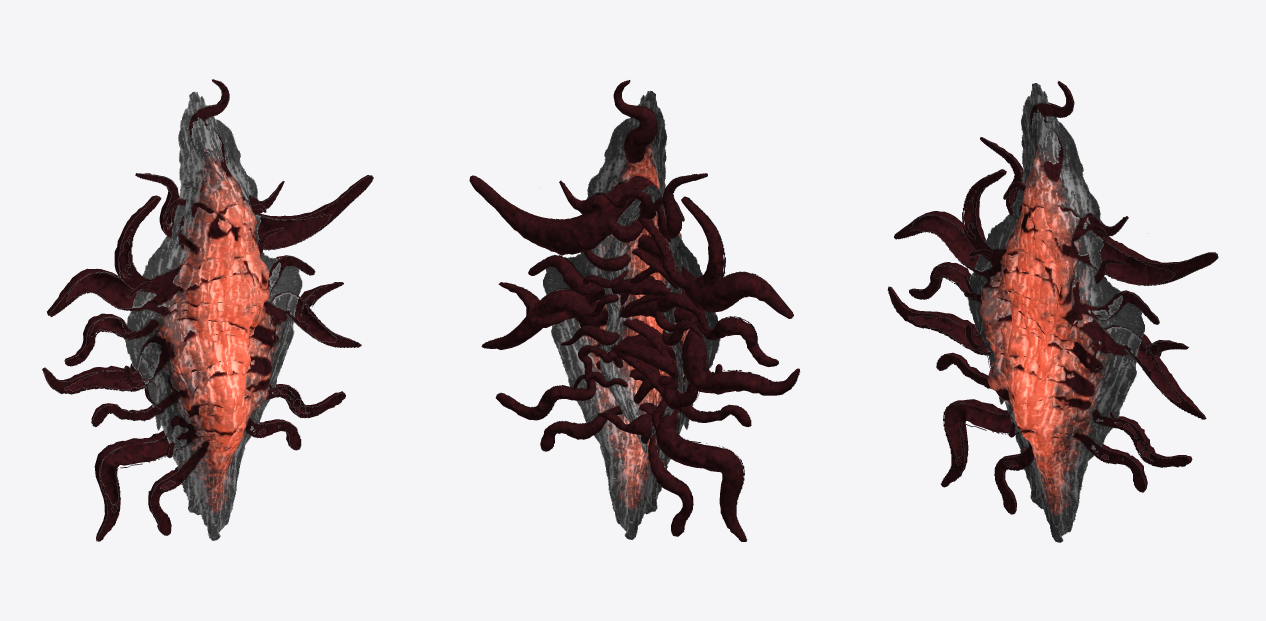
The model's file is rifts-mini.glb.
3 renders of one model, left to right at view 1: azimuth 30°, elevation 25°; view 2: azimuth 150°, elevation 25°; view 3: azimuth 330°, elevation 25°, orthographic.
Visible parts, largest first — view 1: Rift_A, Rift_B; view 2: Rift_A, Rift_B; view 3: Rift_A, Rift_B.
Boxes of the visible parts, x1,y1,x2,y2 form: Rift_A: (42, 79, 373, 541); Rift_B: (122, 197, 284, 458); Rift_A: (469, 80, 800, 541); Rift_B: (561, 185, 722, 453); Rift_A: (887, 81, 1218, 542); Rift_B: (964, 181, 1125, 437).
Bounding box in the file's own units: 1.46 × 1.77 × 0.2612.
1 material, 1 textured.
